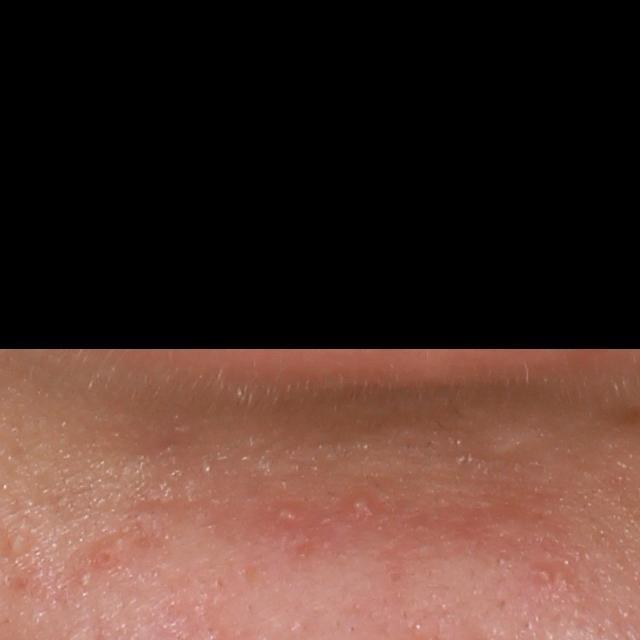comedo: (80, 571, 91, 588)
hypertrophic_scar: (484, 429, 538, 464)
pustule: (274, 501, 306, 532), (348, 493, 377, 524), (532, 561, 555, 589)
